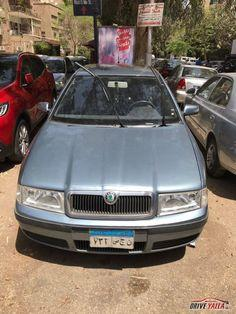skoda: (102, 189, 121, 206)
